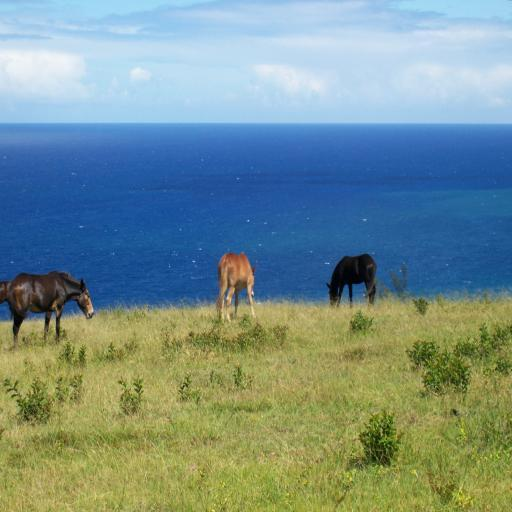horse: (5, 269, 96, 351), (325, 251, 376, 313), (215, 249, 256, 325), (0, 282, 10, 304)
